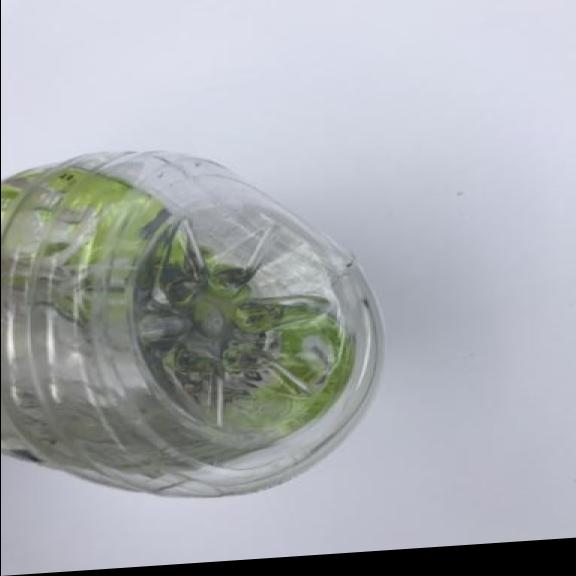Plastik: (0, 124, 392, 514)
